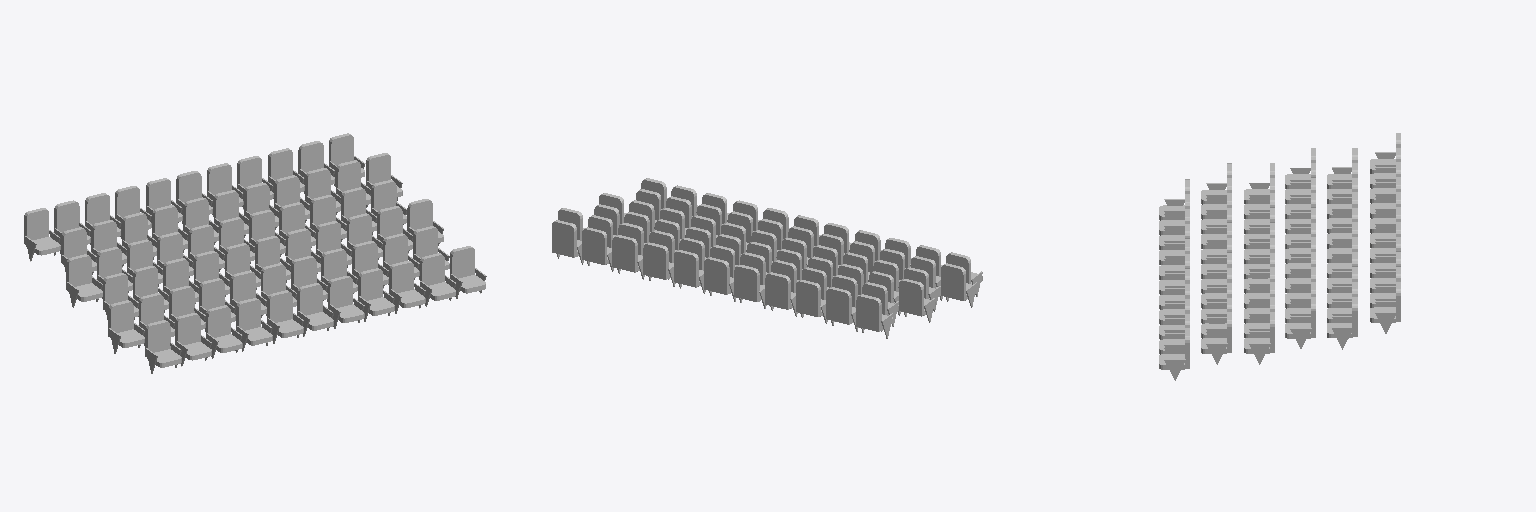
File: siedzenia na widowni.obj
The picture shows the model from 3 angles: view 1: azimuth 30°, elevation 25°; view 2: azimuth 150°, elevation 25°; view 3: azimuth 270°, elevation 25°; orthographic projection.
Visible parts, largest first — view 1: Cube.006_Cube.1668; view 2: Cube.006_Cube.1668; view 3: Cube.006_Cube.1668.
Boxes of the visible parts, <box> form: Cube.006_Cube.1668: <box>24,133,486,373</box>; Cube.006_Cube.1668: <box>552,178,982,338</box>; Cube.006_Cube.1668: <box>1159,133,1400,380</box>.
Size of the model in its own units: 7.44 by 1.7 by 4.51.